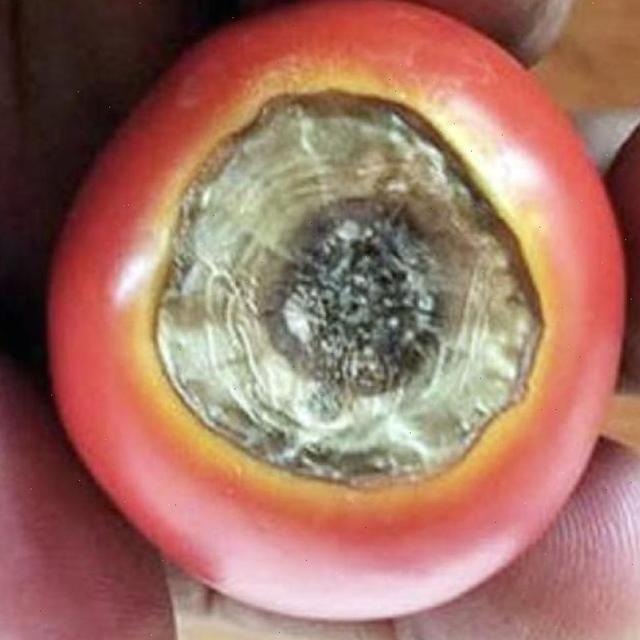Blossom End Rot Fruit: (98, 58, 364, 335)
